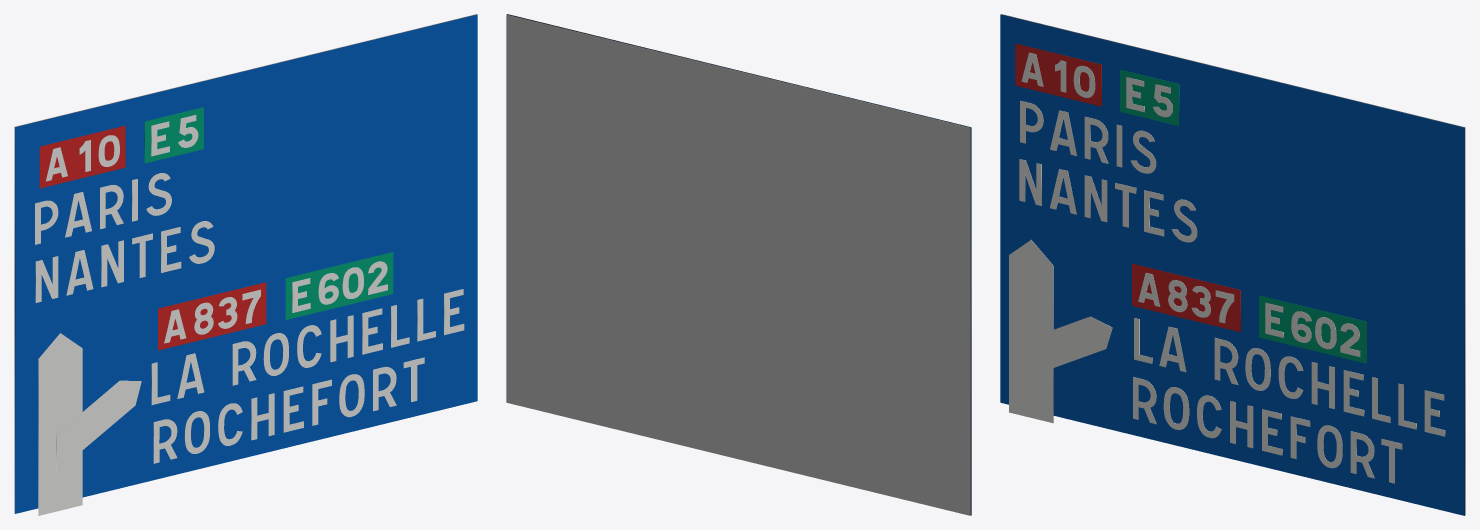
The picture shows the model from 3 angles, left to right: view 1: azimuth 30°, elevation 25°; view 2: azimuth 150°, elevation 25°; view 3: azimuth 330°, elevation 25°; orthographic projection.
Parts seen in each view (by area): view 1: D52a_p01, D52a_p49, D52a_p39, D52a_p44, D52a_p50, D52a_p32, D52a_p36, D52a_dos, D52a_p07, D52a_p09, D52a_p23, D52a_p15 (+17 smaller); view 2: D52a_dos, D52a_p00, D52a_p01; view 3: D52a_p01, D52a_p49, D52a_p39, D52a_p44, D52a_p50, D52a_p32, D52a_p36, D52a_dos, D52a_p09, D52a_p07, D52a_p30, D52a_p04 (+17 smaller).
Part boxes in pixels (x1,y1,x2,y2): D52a_p01: (15,14,477,513); D52a_p49: (38,333,82,515); D52a_p39: (158,282,266,350); D52a_p44: (285,252,393,319); D52a_p50: (56,380,141,471); D52a_p32: (39,125,125,188); D52a_p36: (144,107,203,163); D52a_dos: (14,14,476,513); D52a_p07: (35,256,58,302); D52a_p09: (101,240,123,287); D52a_p23: (153,419,177,463); D52a_p15: (232,341,256,385); D52a_dos: (506,14,970,515); D52a_p00: (507,14,971,515); D52a_p01: (507,14,971,514); D52a_p01: (1000,14,1464,515); D52a_p49: (1009,239,1053,423); D52a_p39: (1132,263,1240,332); D52a_p44: (1259,295,1366,363); D52a_p50: (1027,316,1112,377); D52a_p32: (1015,43,1101,106); D52a_p36: (1120,69,1179,125); D52a_dos: (1001,14,1465,515); D52a_p09: (1084,175,1107,222); D52a_p07: (1019,159,1041,205); D52a_p30: (1350,431,1374,478); D52a_p04: (1084,116,1108,163).
Bounding box in the file's own units: 0.7 × 0.5599 × 0.0219.
